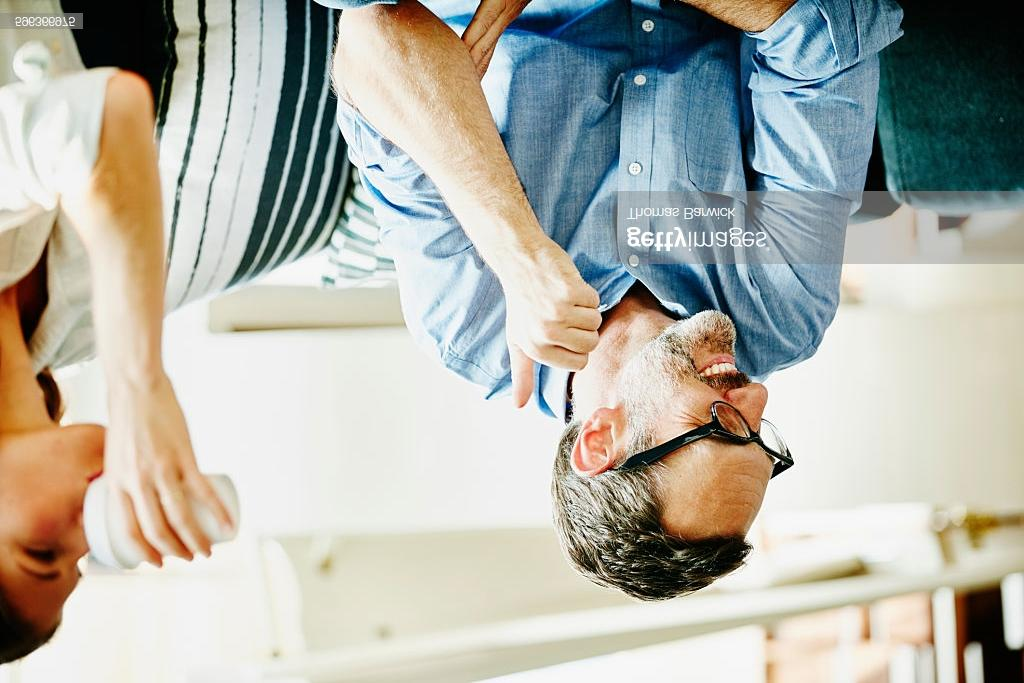thumbsdown: (508, 287, 601, 409)
